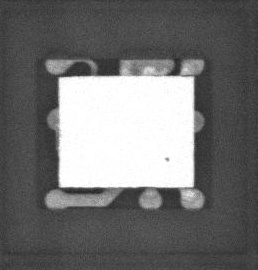DIE_INK: (155, 162, 163, 171)
